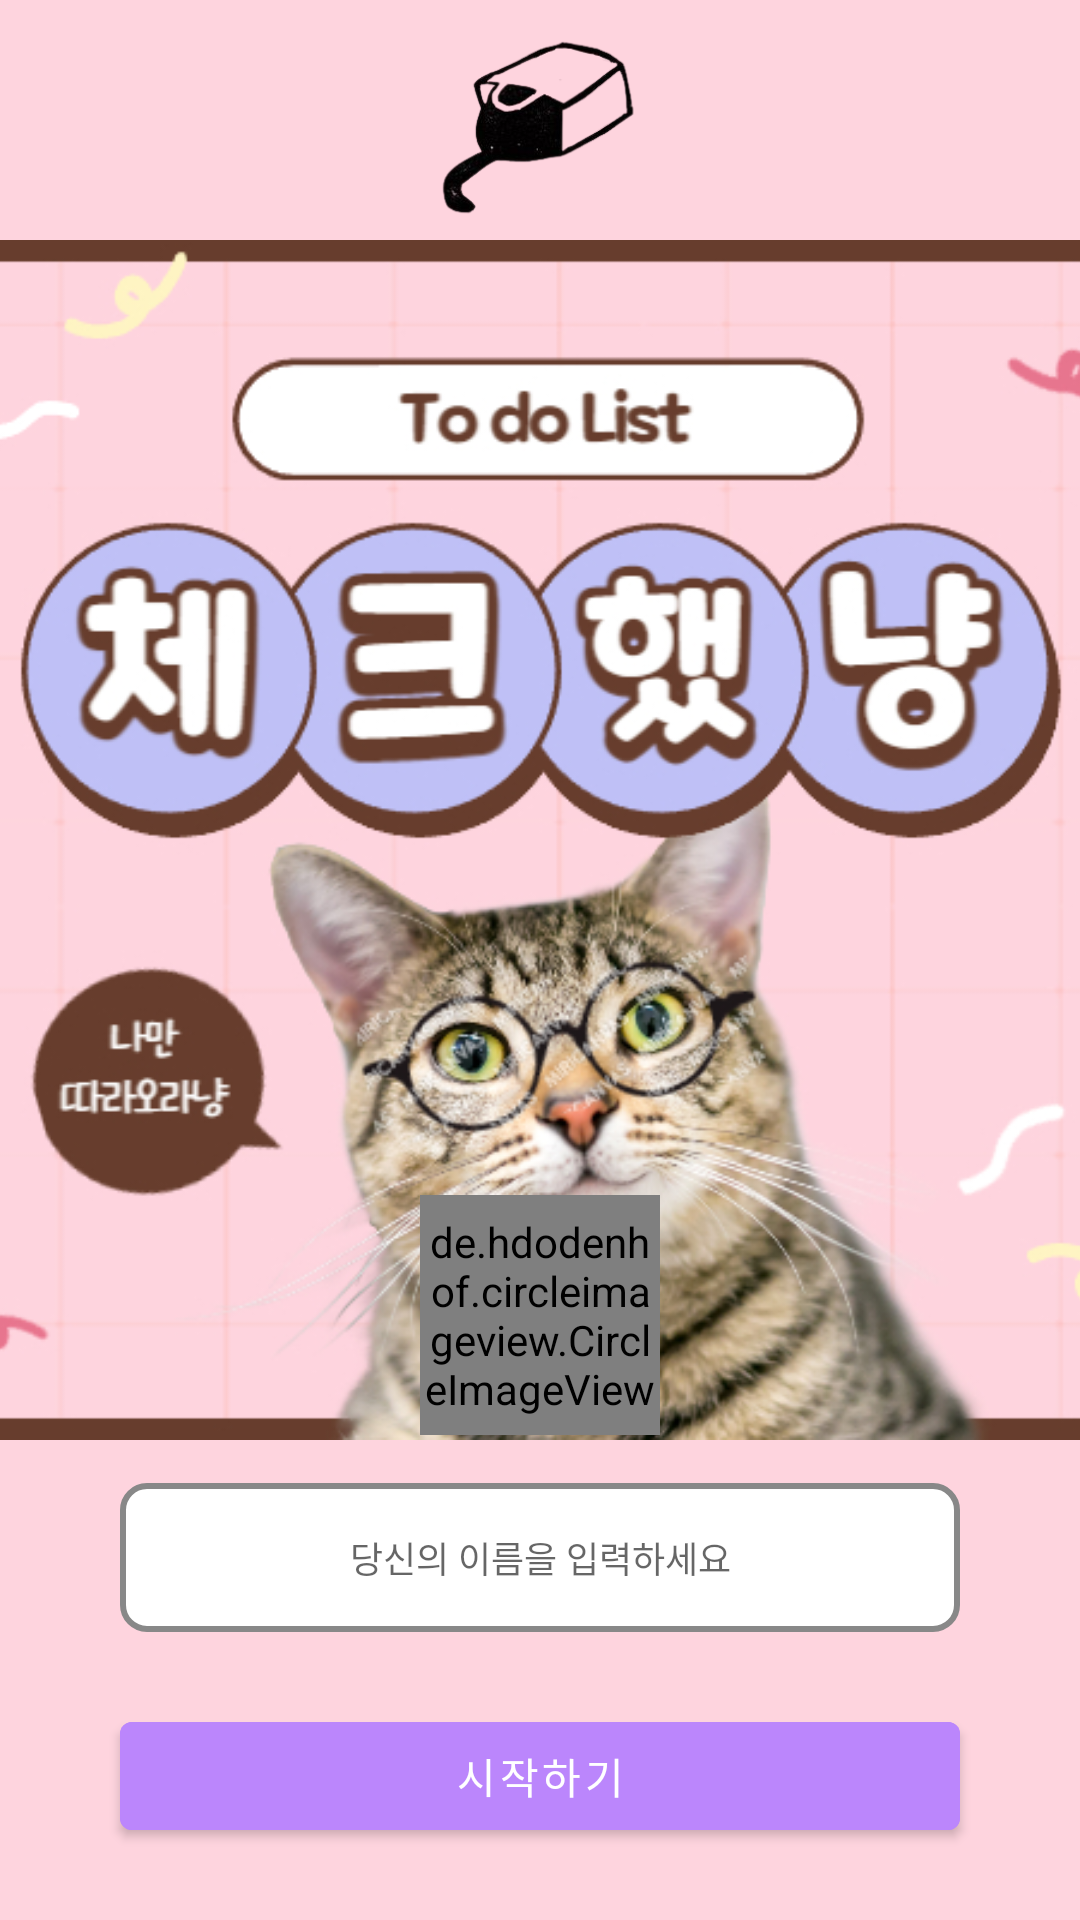

Named icons in this screenshot (1080w x 1920h) and their centers, [x,y]:
catpink: [538,127]
